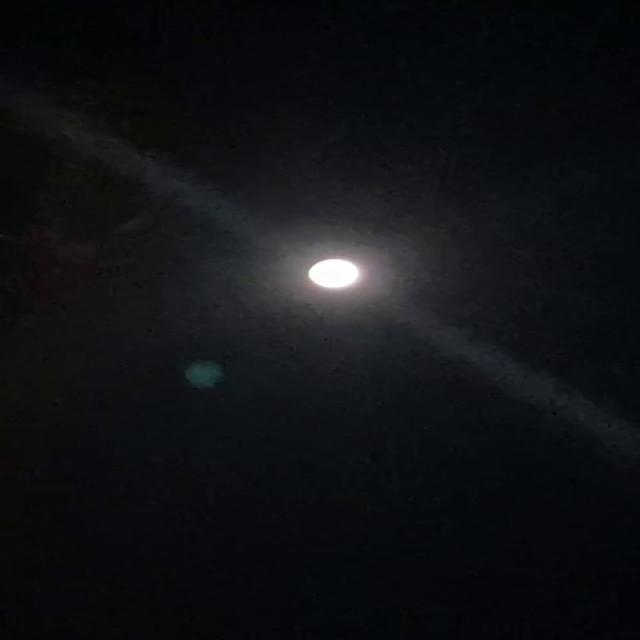moon: (294, 242, 398, 292)
